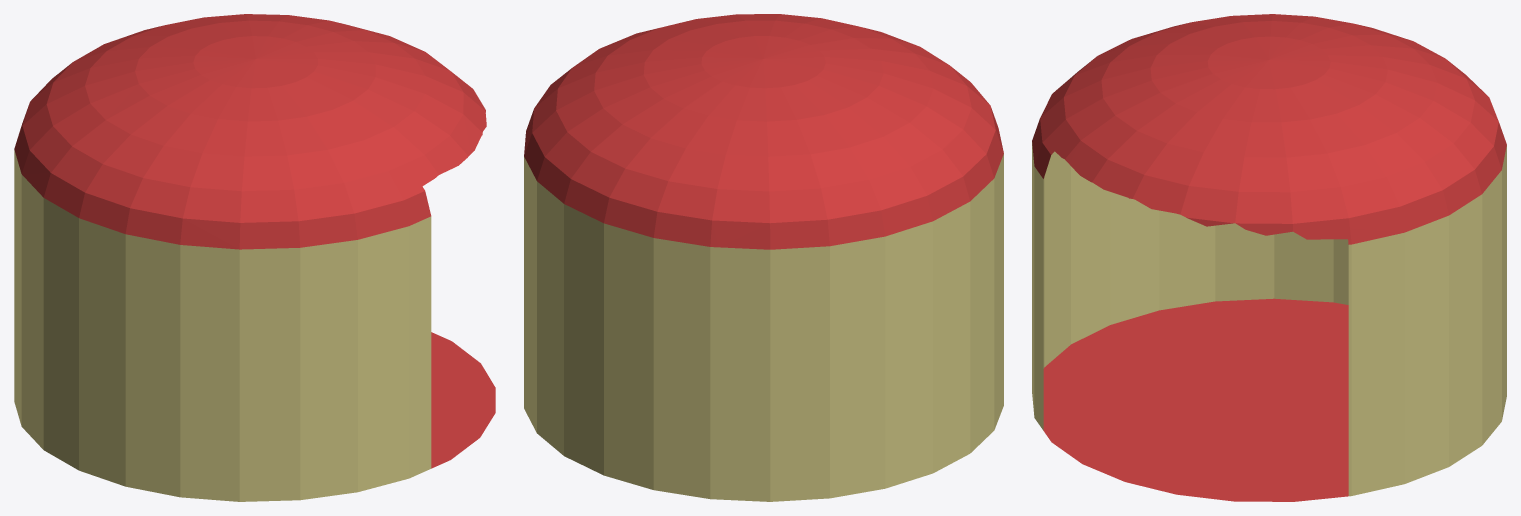
The picture shows the model from 3 angles, left to right: view 1: azimuth 30°, elevation 25°; view 2: azimuth 150°, elevation 25°; view 3: azimuth 270°, elevation 25°; orthographic projection.
Size of the model in its own units: 12.93 by 12.77 by 10.11.
